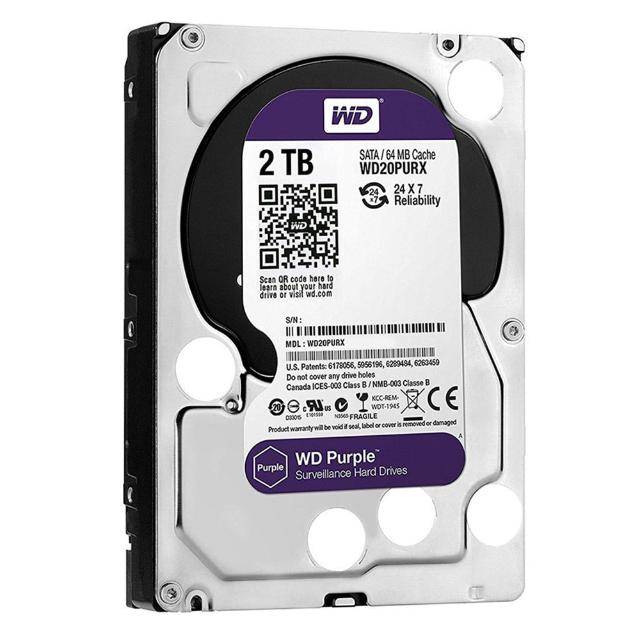HDD: (122, 22, 530, 616)
